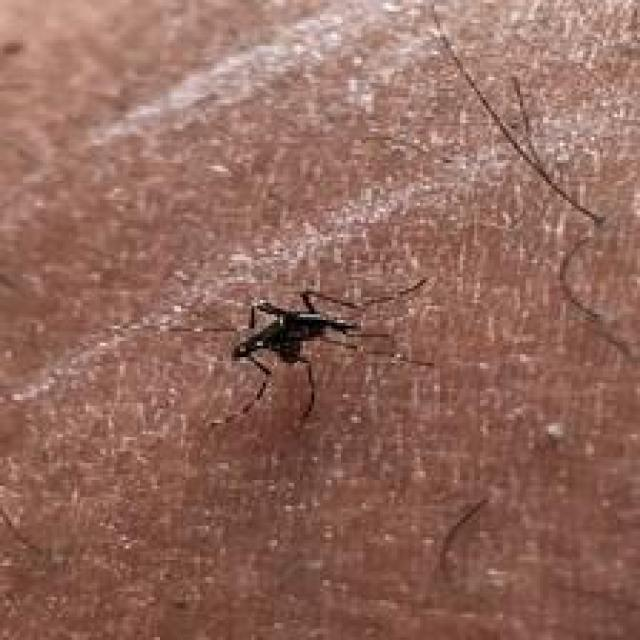Aedes albopictus: (207, 274, 430, 429)
